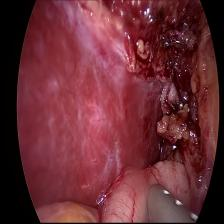Irrigator: (143, 179, 204, 224)
